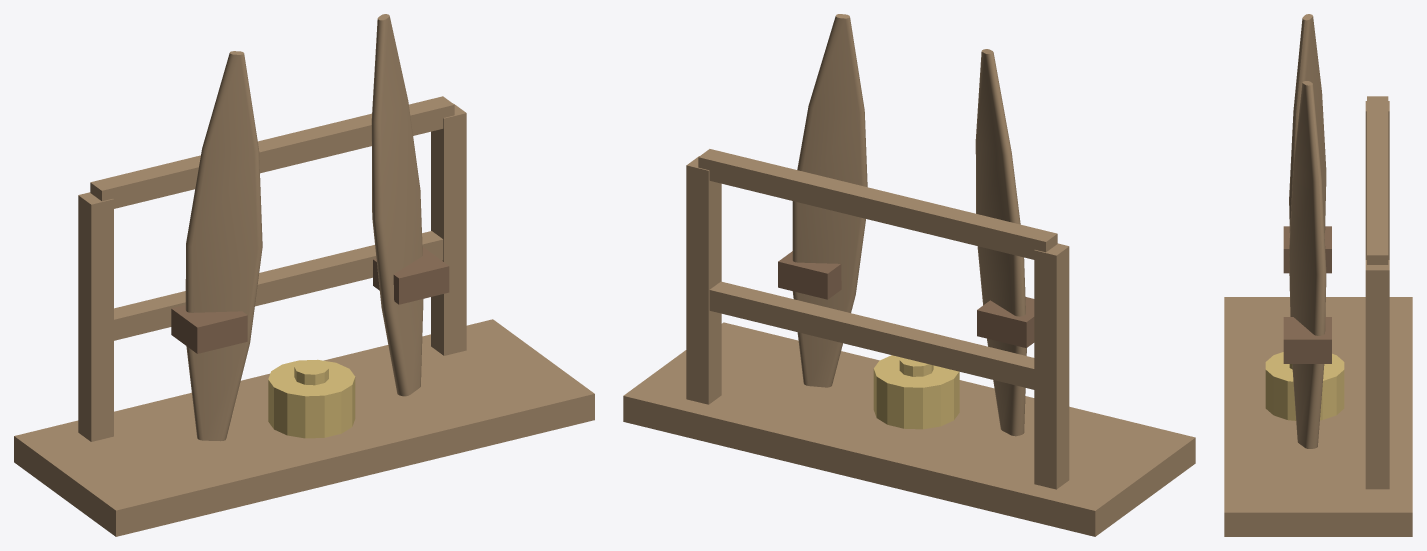
Rendered from steampunk-airship-dock-and-workshop-spare-airscrew-rac-11e57ebb__36095.glb.
The picture shows the model from 3 angles, left to right: view 1: azimuth 30°, elevation 25°; view 2: azimuth 150°, elevation 25°; view 3: azimuth 270°, elevation 25°; orthographic projection. The views are drawn at different scales.
Visible parts, largest first — view 1: spare-airscrew-rack; view 2: spare-airscrew-rack; view 3: spare-airscrew-rack.
Part boxes in pixels (x1=…): spare-airscrew-rack: x1=14, y1=14, x2=594, y2=536; spare-airscrew-rack: x1=623, y1=14, x2=1195, y2=536; spare-airscrew-rack: x1=1224, y1=14, x2=1412, y2=536.
Size of the model in its own units: 1.9 by 1.56 by 0.7001.
